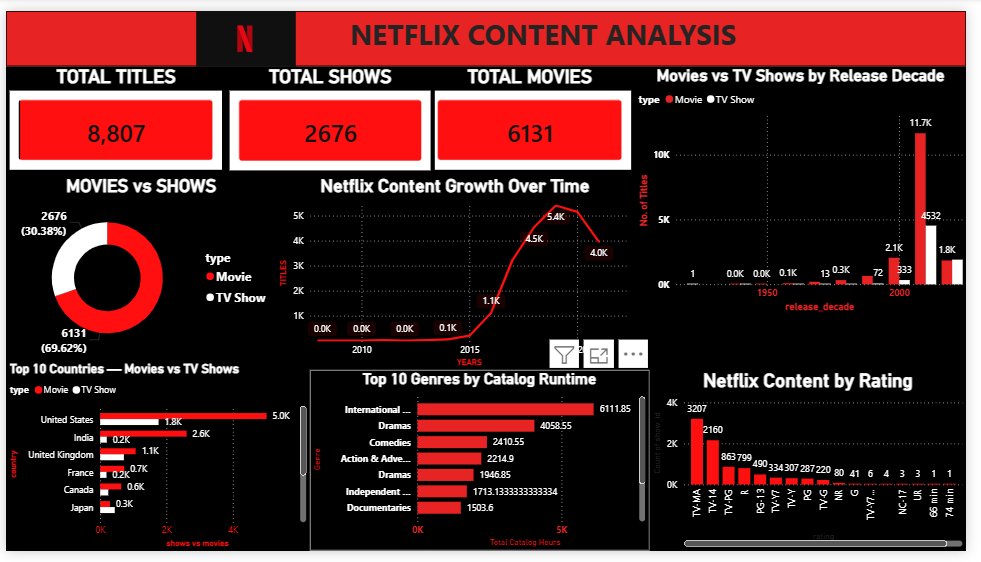

This screenshot's page, from the dashboard's own definition file:
{"tool":"powerbi","page":{"name":"Page 1","canvas":[1280,720],"ordinal":0},"visuals":[{"type":"cardVisual","title":"TOTAL TITLES","fields":{"Data":["Count(netflix_analysis netflix_clean.show_id)"]},"box":[0,73.8,293.8,143.8],"z":0},{"type":"cardVisual","title":"TOTAL MOVIES","fields":{"Data":["Count(netflix_analysis netflix_clean.show_id)"]},"box":[557.5,73.8,280,143.8],"z":1000},{"type":"cardVisual","title":"TOTAL SHOWS","fields":{"Data":["Count(netflix_analysis netflix_clean.show_id)"]},"box":[294,74,278,144],"z":2000},{"type":"donutChart","title":"MOVIES vs SHOWS","fields":{"Category":["netflix_analysis netflix_clean.type"],"Y":["Count(netflix_analysis netflix_clean.show_id)"]},"box":[0,217.9,360.7,248.2],"z":3000},{"type":"lineChart","title":"Netflix Content Growth Over Time","fields":{"Category":["netflix_analysis netflix_clean.date_added_year"],"Y":["CountNonNull(netflix_analysis netflix_clean.show_id)"]},"box":[360,217.5,477.5,261.2],"z":4000},{"type":"clusteredColumnChart","title":"Movies vs TV Shows by Release Decade","fields":{"Category":["netflix_analysis netflix_clean.release_decade"],"Y":["CountNonNull(netflix_analysis netflix_clean.show_id)"],"Series":["netflix_analysis netflix_clean.type"]},"box":[837.5,73.8,442.5,332.5],"z":6000},{"type":"clusteredBarChart","title":"Top 10 Countries — Movies vs TV Shows","fields":{"Category":["netflix_analysis netflix_clean.country"],"Y":["CountNonNull(netflix_analysis netflix_clean.show_id)"],"Series":["netflix_analysis netflix_clean.type"]},"box":[0,466,405.4,253.9],"z":7000},{"type":"clusteredBarChart","title":"Top 10 Genres by Catalog Runtime","fields":{"Category":["netflix_analysis netflix_clean.listed_in"],"Y":["netflix_analysis netflix_clean.Total Catalog Hours"]},"box":[405,478.8,452.5,241.2],"z":8000},{"type":"shape","title":"NETFLIX CONTENT ANALYSIS","box":[0,0,1280,73.8],"z":9000},{"type":"textbox","box":[153.8,0,1126.2,73.8],"z":10000},{"type":"image","box":[0,0,640,74.3],"z":11000},{"type":"clusteredColumnChart","title":"Netflix Content by Rating","fields":{"Y":["Count(netflix_analysis netflix_clean.show_id)"],"Category":["netflix_analysis netflix_clean.rating"]},"box":[858,479,422,241],"z":11001}]}

Visuals, with their boxes in screenshot pixels (x1, y1, x2, y2), scaled from the page's 1280x720 canvas onto the 981x562 screenshot:
"TOTAL TITLES" cardVisual: 0 58 225 170
"TOTAL MOVIES" cardVisual: 427 58 642 170
"TOTAL SHOWS" cardVisual: 225 58 438 170
"MOVIES vs SHOWS" donutChart: 0 170 276 364
"Netflix Content Growth Over Time" lineChart: 276 170 642 374
"Movies vs TV Shows by Release Decade" clusteredColumnChart: 642 58 980 317
"Top 10 Countries — Movies vs TV Shows" clusteredBarChart: 0 364 311 561
"Top 10 Genres by Catalog Runtime" clusteredBarChart: 310 374 657 561
"NETFLIX CONTENT ANALYSIS" shape: 0 0 980 58
textbox: 118 0 980 58
image: 0 0 490 58
"Netflix Content by Rating" clusteredColumnChart: 658 374 980 561
